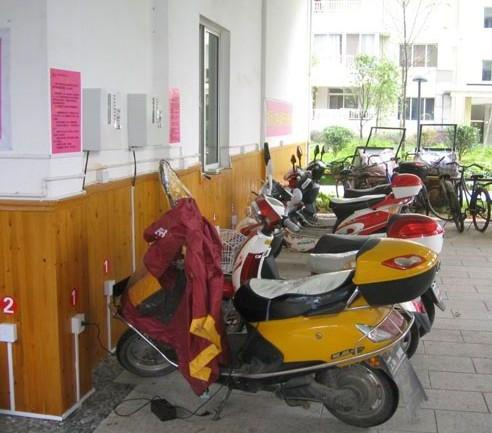non-vehicle: (105, 236, 440, 427), (231, 191, 444, 292), (265, 173, 422, 235)
